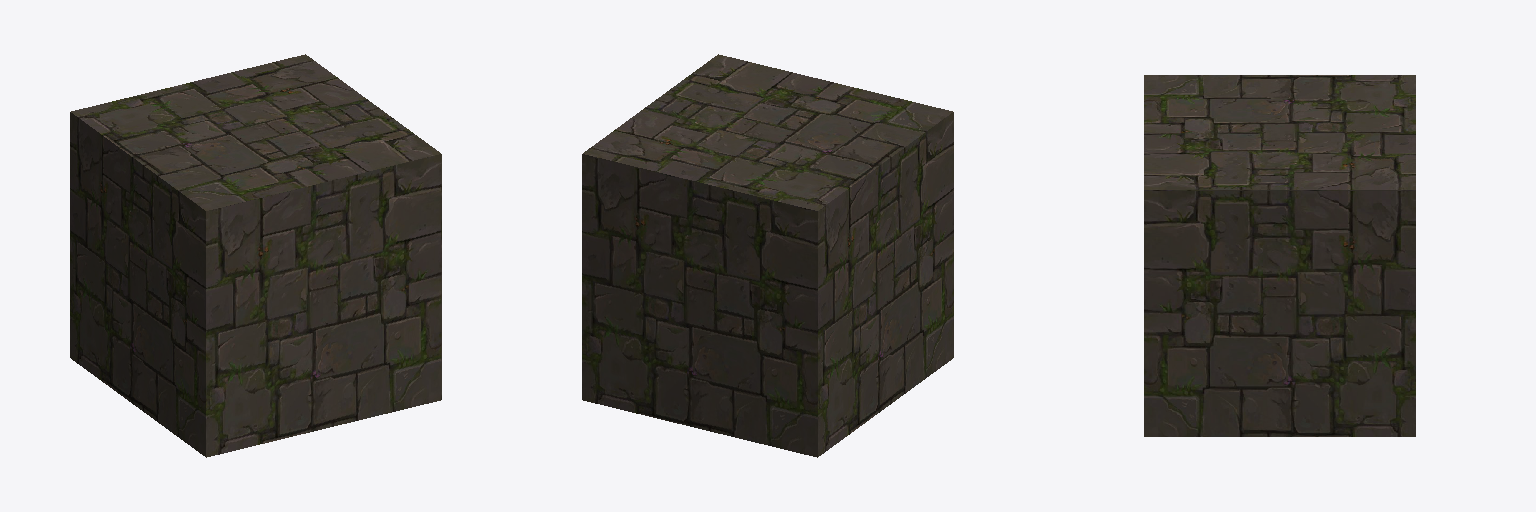
3 views of the same model, side by side, from view 1: azimuth 30°, elevation 25°; view 2: azimuth 150°, elevation 25°; view 3: azimuth 270°, elevation 25° (orthographic).
Parts seen in each view (by area): view 1: BoxTemplate; view 2: BoxTemplate; view 3: BoxTemplate.
Part boxes in pixels (bbox=[...]): BoxTemplate: bbox=[70, 54, 441, 457]; BoxTemplate: bbox=[582, 54, 953, 457]; BoxTemplate: bbox=[1144, 75, 1415, 436].
Bounding box in the file's own units: 9.84 × 9.84 × 9.84.
Materials: 1 (1 with a texture image).